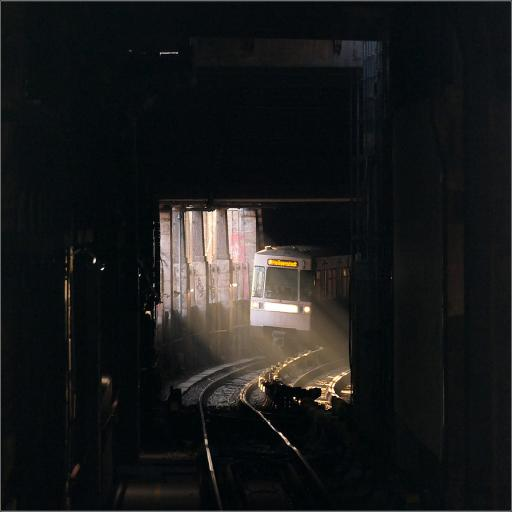Silberpfeil: (250, 242, 350, 335)
